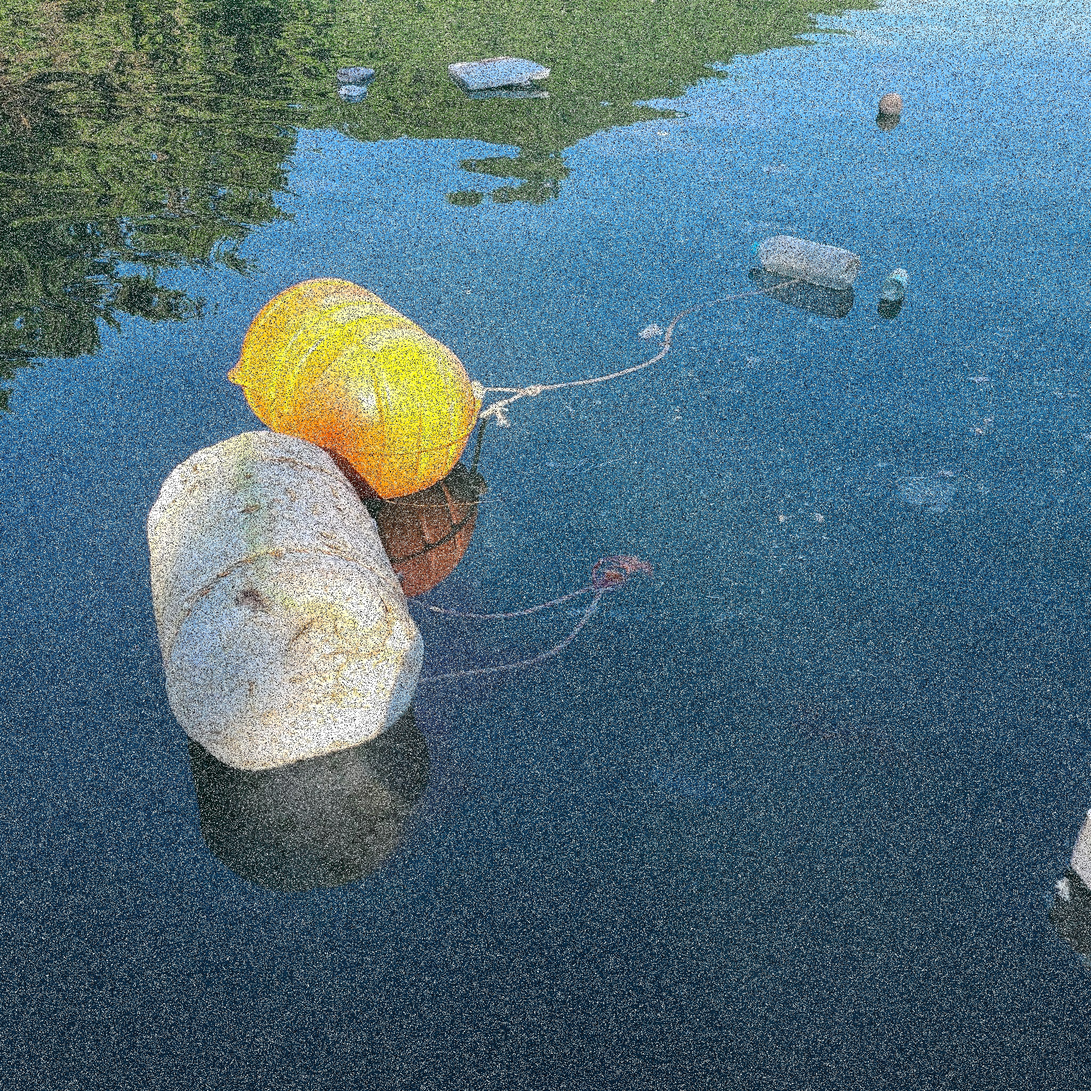sampah_terapung: (148, 431, 425, 771), (227, 279, 483, 500), (471, 279, 804, 428), (406, 554, 654, 685), (372, 452, 625, 507), (752, 235, 861, 290), (448, 56, 552, 90), (1069, 809, 1091, 890), (882, 268, 910, 301), (337, 68, 376, 83), (879, 94, 904, 116), (338, 85, 368, 96), (512, 81, 531, 87)
